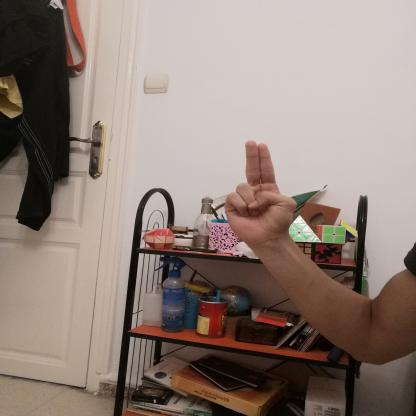TA: (215, 134, 307, 255)
